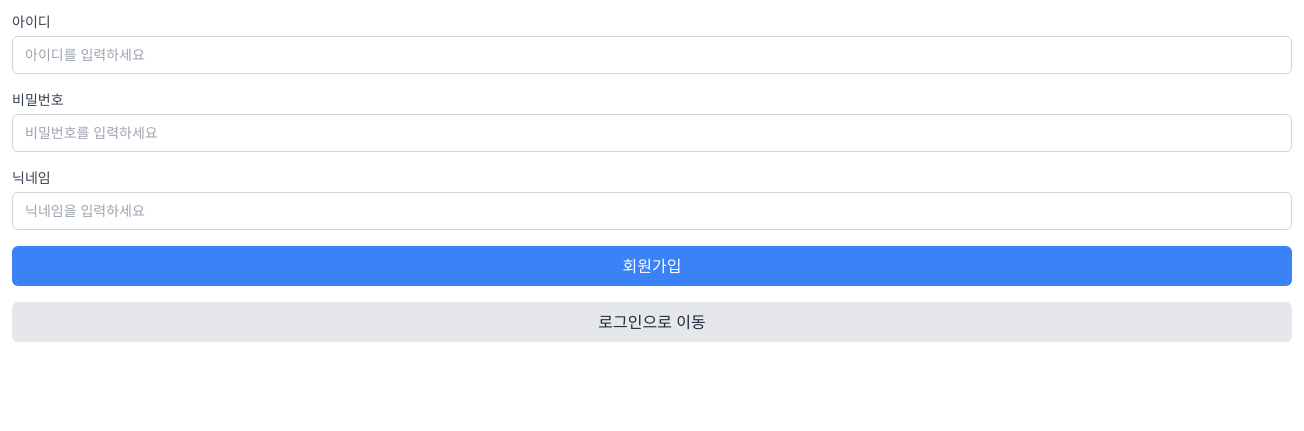
it: RegisterForm › validates required fields
Step 1. Click the button "회원가입" → (652, 266), box [12,246,1292,286]
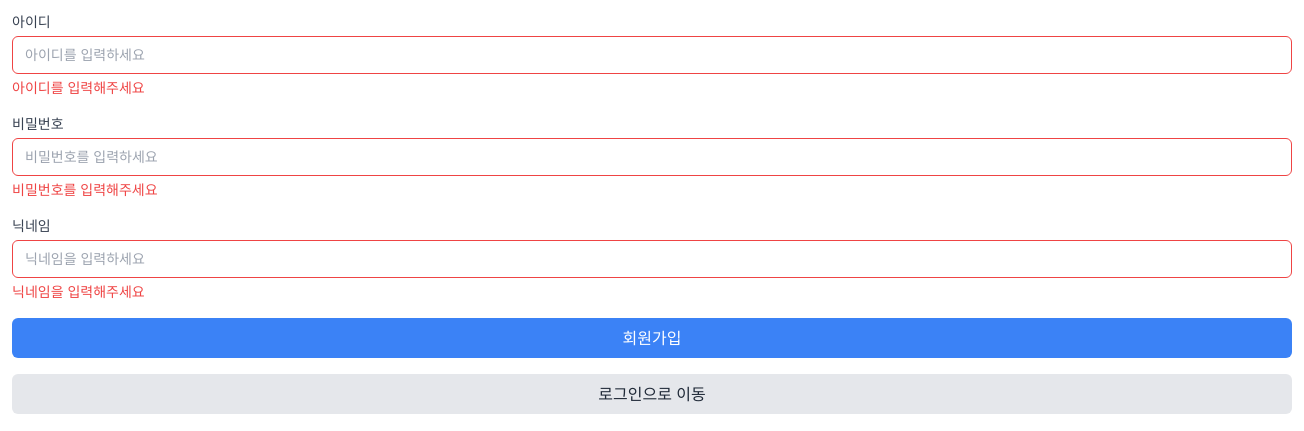
Result: the text "아이디를 입력해주세요" is shown at [12,79,145,96]
Result: the text "비밀번호를 입력해주세요" is shown at [12,181,158,198]
Result: the text "닉네임을 입력해주세요" is shown at [12,283,145,300]
